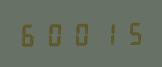five: (118, 19, 142, 45)
one: (93, 19, 117, 46)
six: (18, 21, 42, 47)
zero: (43, 20, 67, 47), (68, 20, 92, 46)
